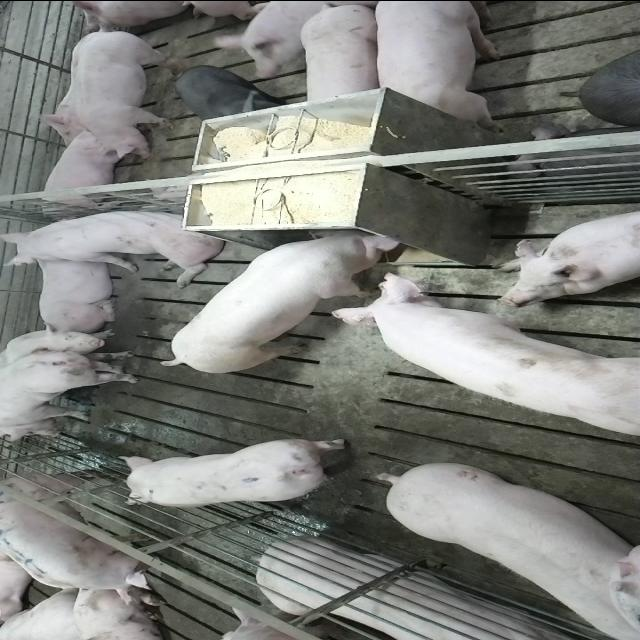Feeding: (318, 270, 634, 442), (161, 219, 413, 369)
Sitting: (5, 204, 226, 282), (1, 324, 144, 444)
Standing: (374, 457, 636, 635), (0, 466, 178, 601), (122, 436, 356, 512), (372, 2, 509, 128), (78, 24, 182, 158), (300, 4, 384, 112), (170, 62, 279, 118)
Sternal_lying: (237, 539, 584, 640), (494, 202, 640, 302), (34, 132, 132, 210), (35, 250, 121, 330)
